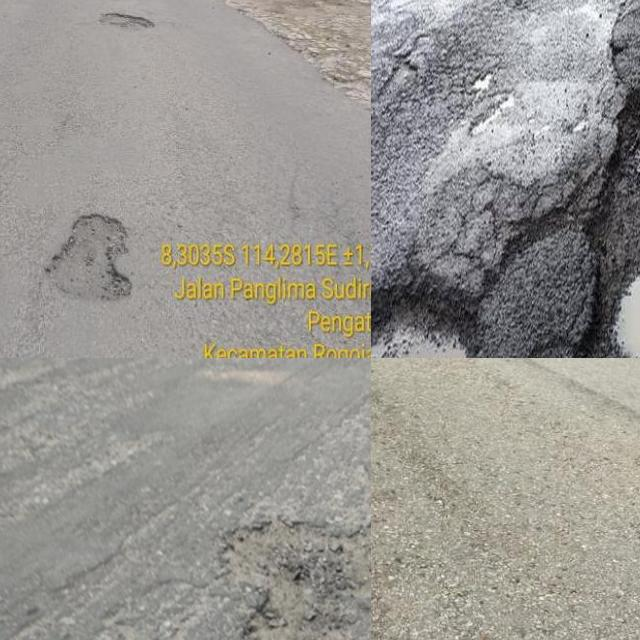Lubang: (224, 519, 371, 633), (371, 279, 481, 358), (48, 214, 131, 301), (600, 260, 640, 358), (102, 10, 158, 32)
